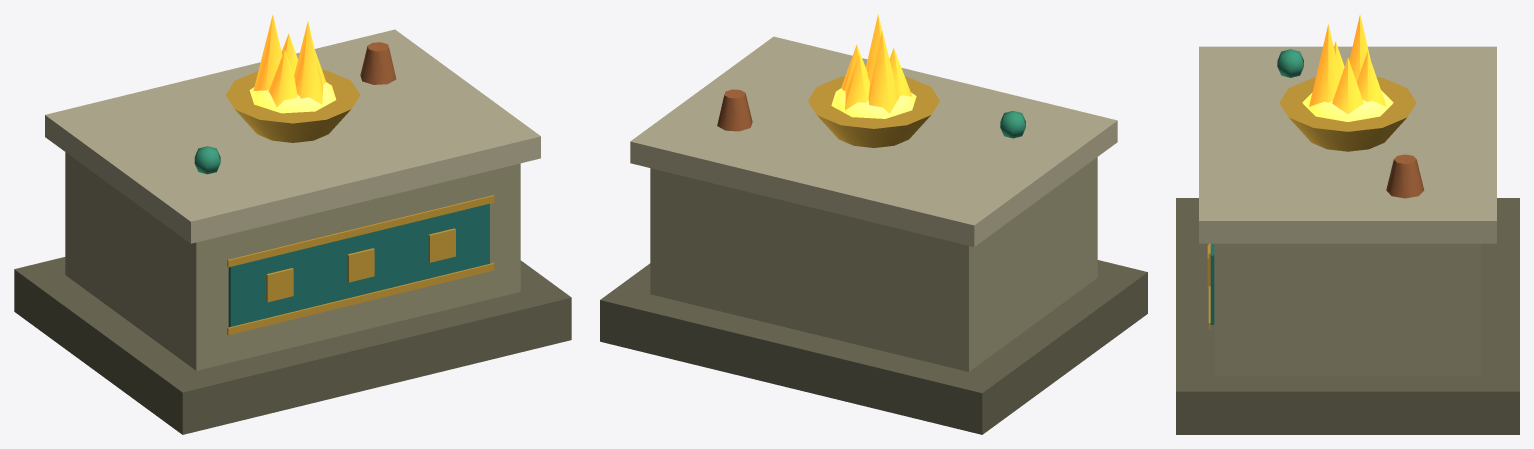
The model's file is jt_altar_fire.glb.
The picture shows the model from 3 angles, left to right: view 1: azimuth 30°, elevation 25°; view 2: azimuth 150°, elevation 25°; view 3: azimuth 270°, elevation 25°; orthographic projection. The views are drawn at different scales.
Visible parts, largest first — view 1: jt_altar_fire; view 2: jt_altar_fire; view 3: jt_altar_fire.
Part boxes in pixels (x1,y1,x2,y2): jt_altar_fire: [14, 14, 571, 434]; jt_altar_fire: [600, 14, 1147, 434]; jt_altar_fire: [1176, 14, 1519, 434].
Bounding box in the file's own units: 2.4 × 1.83 × 1.8.
